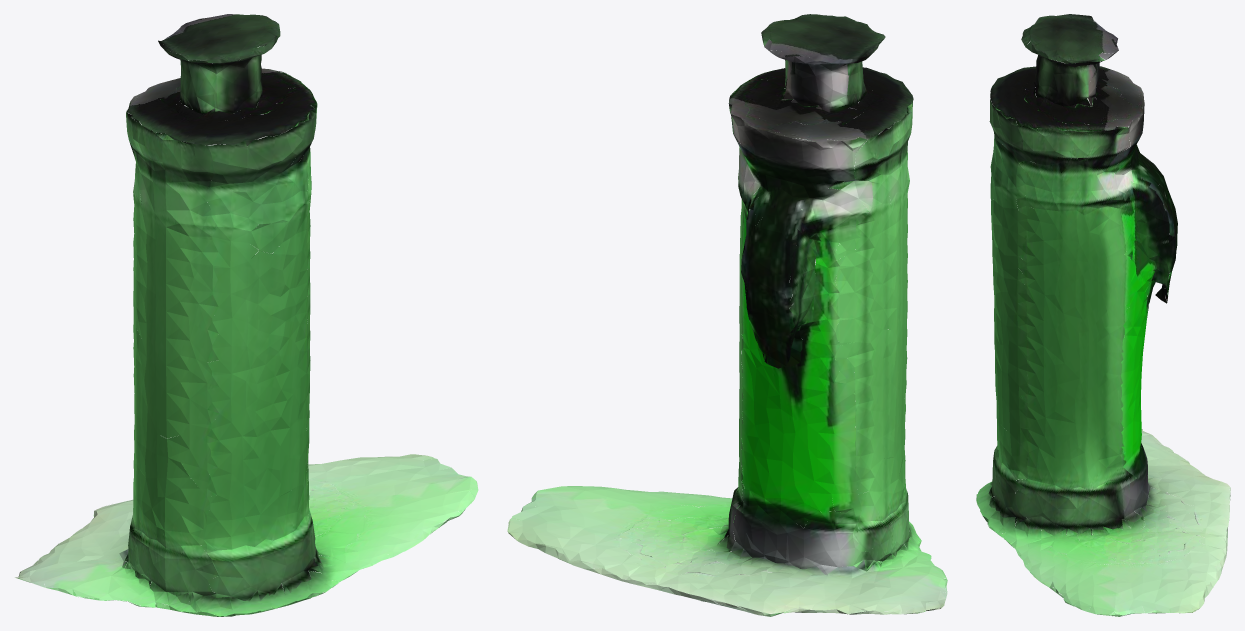
The model's file is tank.glb.
The picture shows the model from 3 angles, left to right: view 1: azimuth 30°, elevation 25°; view 2: azimuth 150°, elevation 25°; view 3: azimuth 270°, elevation 25°; orthographic projection. The views are drawn at different scales.
Visible parts, largest first — view 1: world; view 2: world; view 3: world.
Part boxes in pixels (left/top/right/bottom): world: left=15, top=14, right=478, bottom=616; world: left=507, top=14, right=947, bottom=616; world: left=976, top=14, right=1230, bottom=616.
Size of the model in its own units: 0.7514 by 0.8826 by 0.4299.
Materials: 1 (1 with a texture image).
